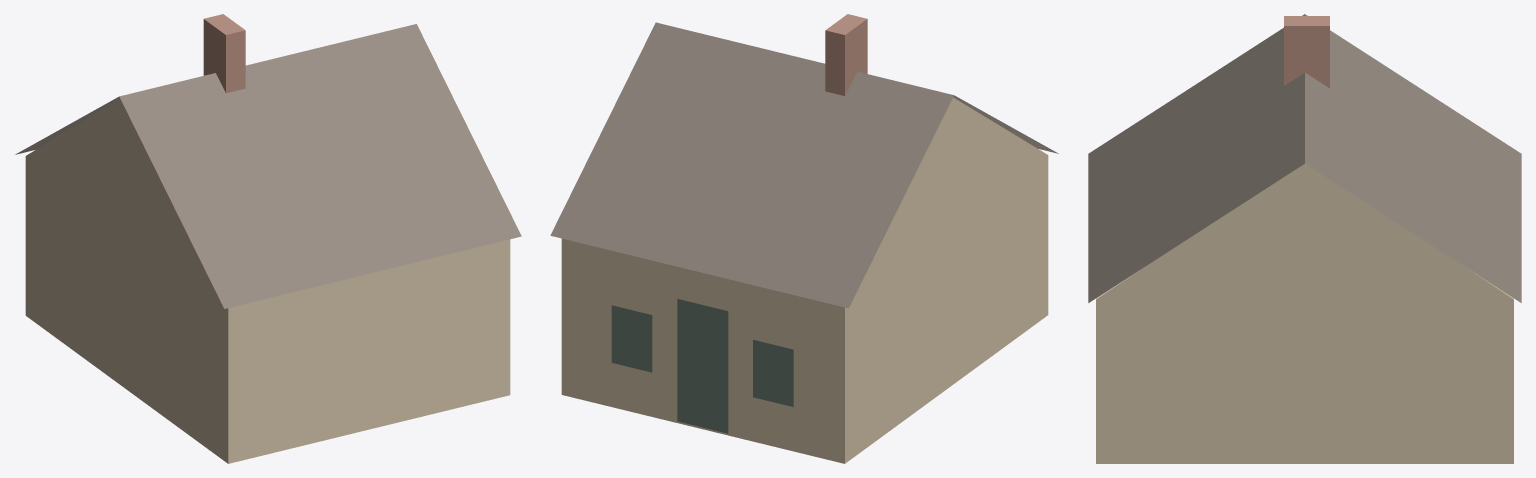
File: recon_1835_south_d3_017__recommended_1835.glb
3 renders of one model, left to right at view 1: azimuth 30°, elevation 25°; view 2: azimuth 150°, elevation 25°; view 3: azimuth 270°, elevation 25°, orthographic. The views are drawn at different scales.
Parts seen in each view (by area): view 1: recon_1835_south_d3_017__recommended_1835; view 2: recon_1835_south_d3_017__recommended_1835; view 3: recon_1835_south_d3_017__recommended_1835.
Boxes of the visible parts, x1,y1,x2,y2 form: recon_1835_south_d3_017__recommended_1835: (15, 14, 521, 463); recon_1835_south_d3_017__recommended_1835: (550, 14, 1058, 463); recon_1835_south_d3_017__recommended_1835: (1088, 14, 1521, 463).
Size of the model in its own units: 5.42 by 5.93 by 6.64.
